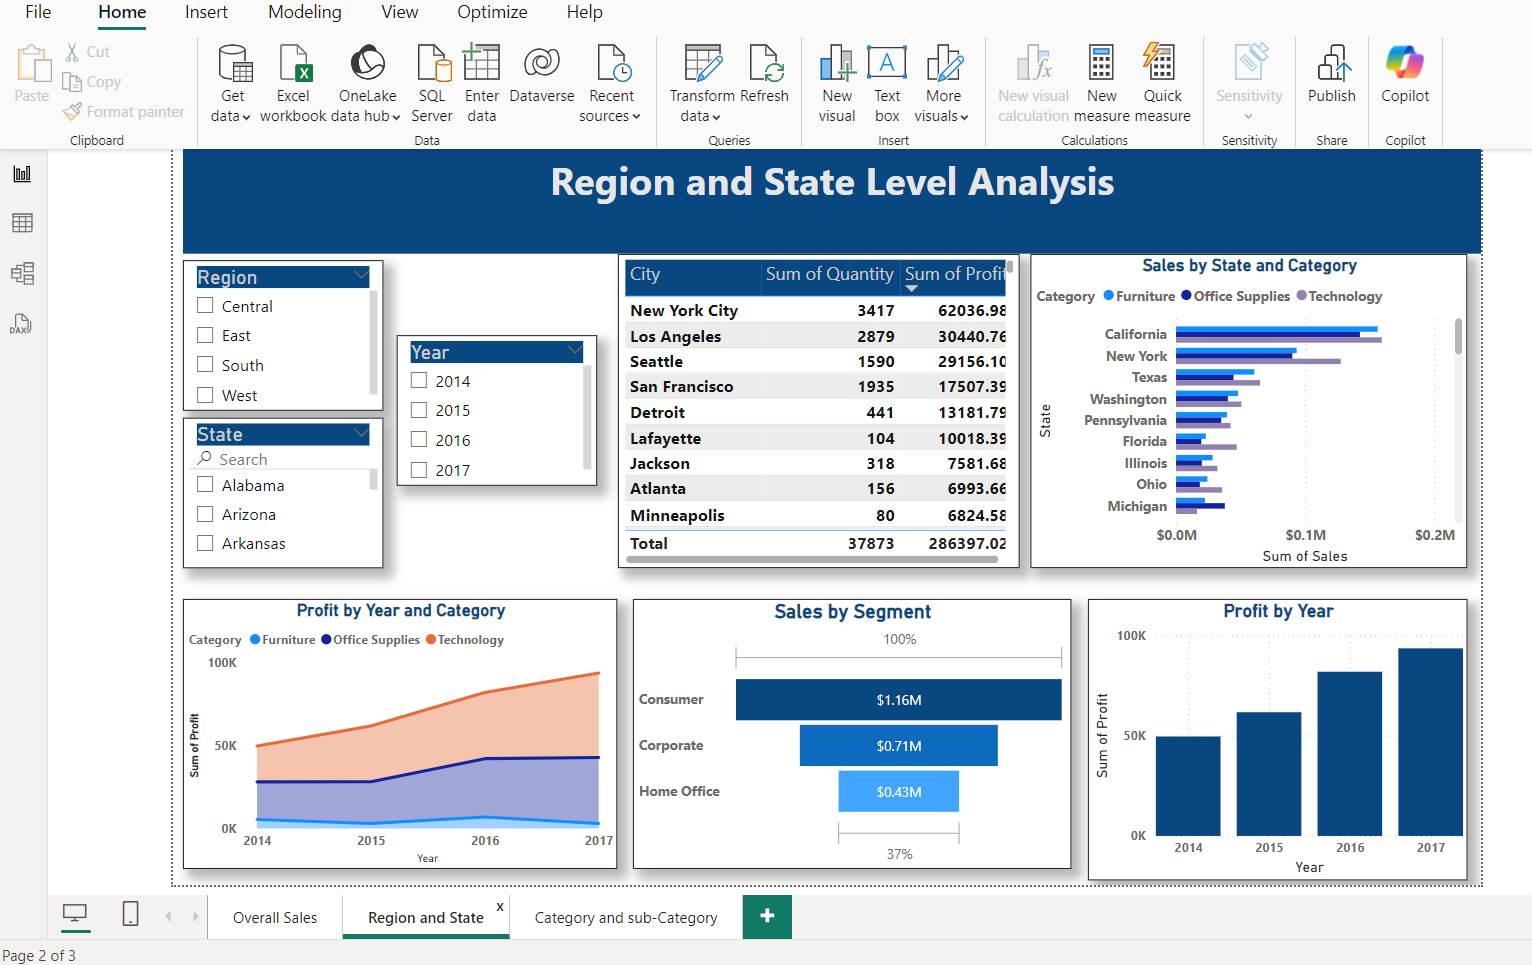

This screenshot's page, from the dashboard's own definition file:
{"tool":"powerbi","page":{"name":"Region and State","canvas":[1280,720],"ordinal":1},"visuals":[{"type":"textbox","box":[10,0,1270,102.5],"z":0},{"type":"slicer","fields":{"Values":["Sample - Superstore.Region"]},"box":[10,108.8,196.2,147.5],"z":1000},{"type":"slicer","fields":{"Values":["Sample - Superstore.State"]},"box":[10,262.5,196.2,147.5],"z":2000},{"type":"slicer","fields":{"Values":["Sample - Superstore.Year"]},"box":[218.8,182.5,196.2,147.5],"z":3000},{"type":"tableEx","fields":{"Values":["Sample - Superstore.City","Sum(Sample - Superstore.Quantity)","Sum(Sample - Superstore.Profit)"]},"box":[435,102.5,392.5,307.5],"z":4000},{"type":"clusteredBarChart","title":"Sales by State and Category","fields":{"Category":["Sample - Superstore.State"],"Series":["Sample - Superstore.Category"],"Y":["Sum(Sample - Superstore.Sales)"]},"box":[838.8,102.5,427.5,307.5],"z":5000},{"type":"stackedAreaChart","title":"Profit by Year and Category","fields":{"Category":["Sample - Superstore.Year"],"Y":["Sum(Sample - Superstore.Profit)"],"Series":["Sample - Superstore.Category"]},"box":[10,440,425,263.8],"z":6000},{"type":"funnel","title":"Sales by Segment","fields":{"Category":["Sample - Superstore.Segment"],"Y":["Sum(Sample - Superstore.Sales)"]},"box":[450,440,428.8,263.8],"z":7000},{"type":"columnChart","title":" Profit by Year","fields":{"Category":["Sample - Superstore.Year"],"Y":["Sum(Sample - Superstore.Profit)"]},"box":[895,440,371.2,275],"z":8000}]}

Visuals, with their boxes on the page's 1280x720 design canvas (x1, y1, x2, y2). These are canvas units, not pixel positions in the 1532x965 screenshot, which may show the page scaled, cropped or inside an application window:
textbox: 10 0 1280 102
slicer - Sample - Superstore.Region: 10 109 206 256
slicer - Sample - Superstore.State: 10 262 206 410
slicer - Sample - Superstore.Year: 219 182 415 330
tableEx - Sample - Superstore.City x Sum(Sample - Superstore.Quantity): 435 102 828 410
"Sales by State and Category" clusteredBarChart: 839 102 1266 410
"Profit by Year and Category" stackedAreaChart: 10 440 435 704
"Sales by Segment" funnel: 450 440 879 704
" Profit by Year" columnChart: 895 440 1266 715
